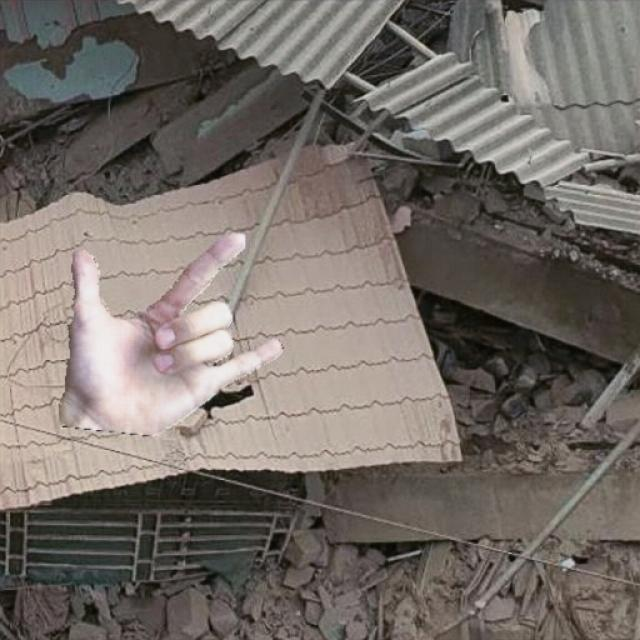Person in Rubble: (59, 232, 282, 436)
